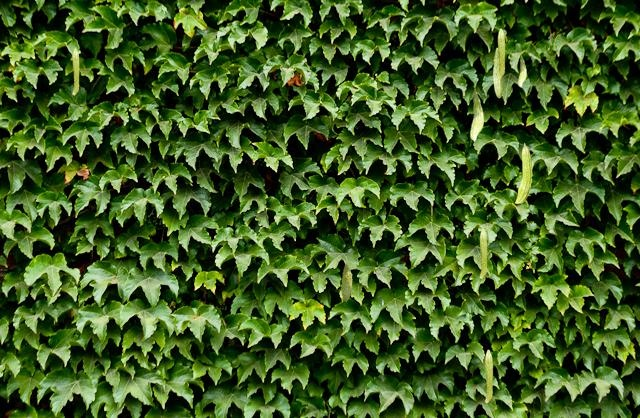ampalaya: (514, 142, 532, 204), (469, 86, 484, 141), (492, 47, 503, 98), (340, 263, 353, 302), (484, 349, 493, 403), (479, 228, 487, 279), (497, 28, 505, 79), (517, 52, 527, 87), (72, 48, 79, 95)
